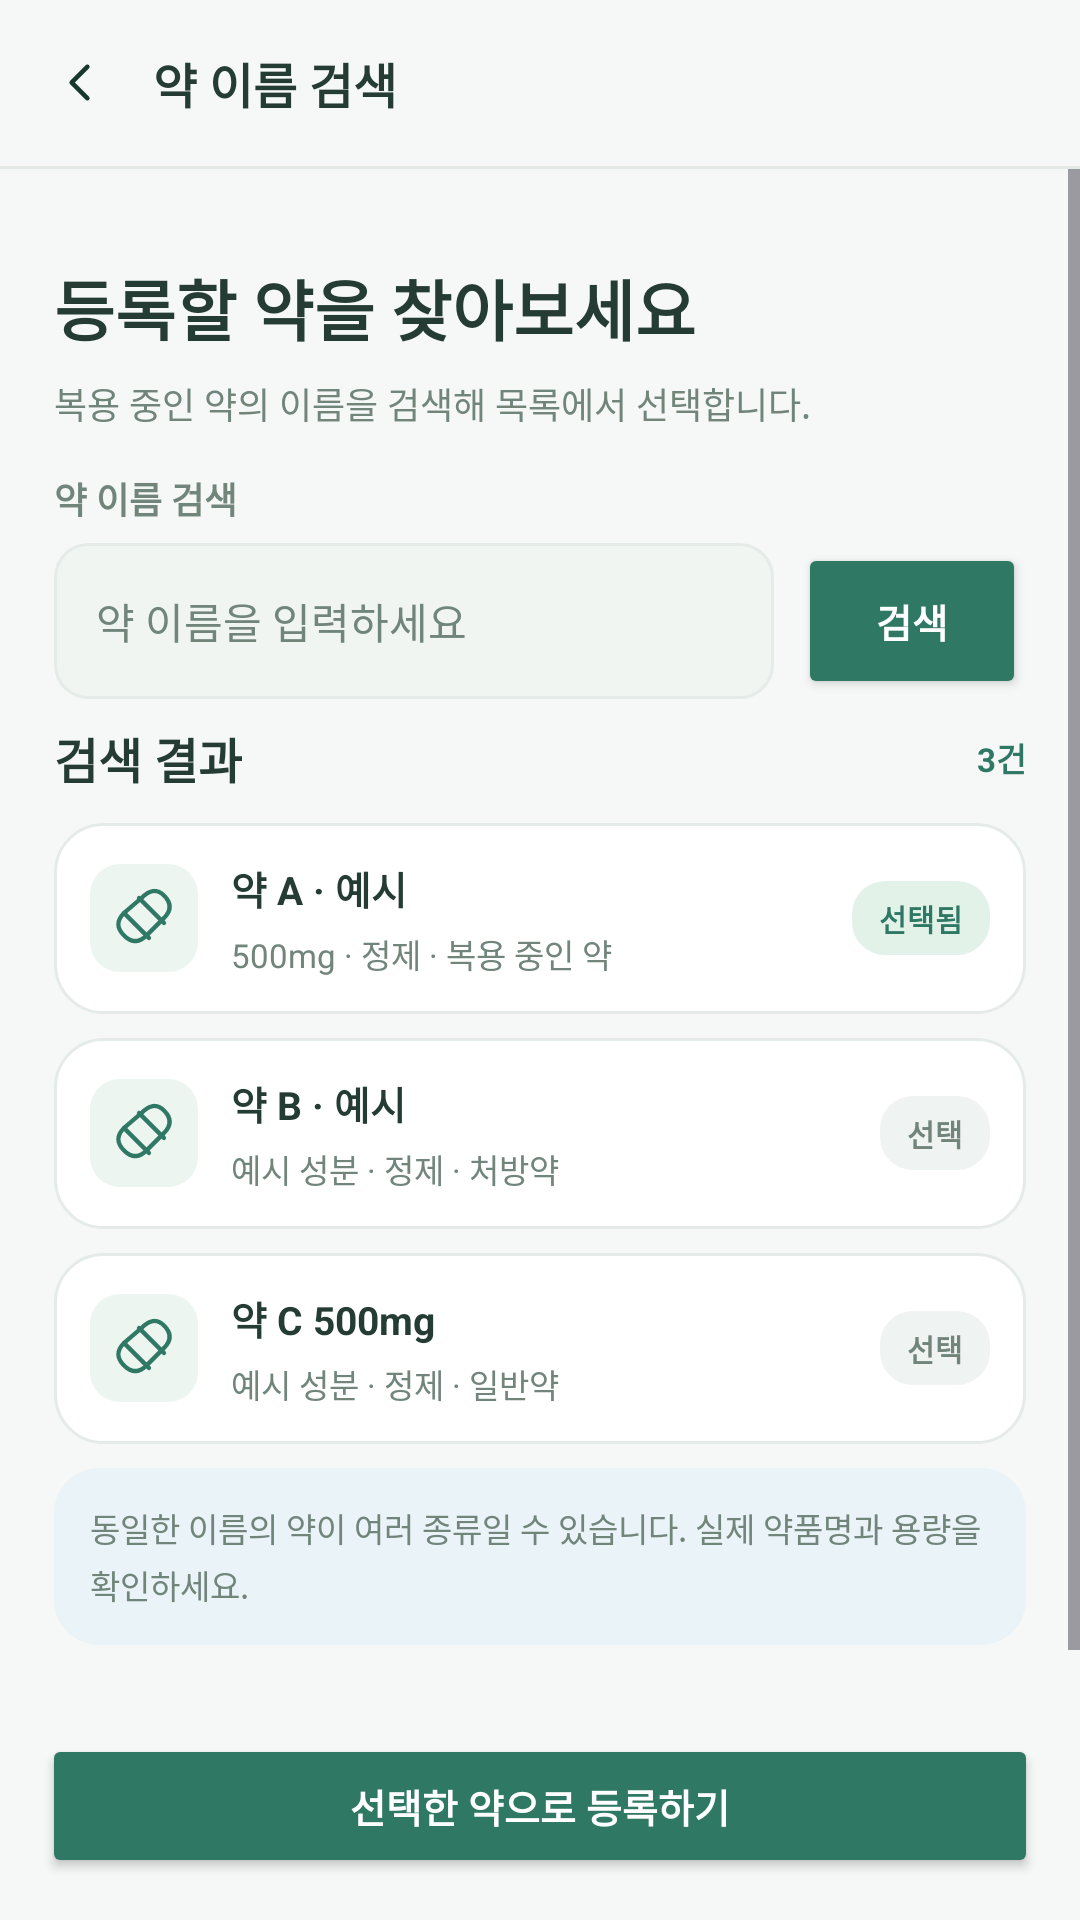

Icon bounding boxes for this 1080px x 1920px phone screenshot, format (x1, y1, x2, y2):
back: (69, 64, 90, 101)
pill: (116, 888, 172, 944), (116, 1103, 172, 1159), (116, 1318, 172, 1374)
